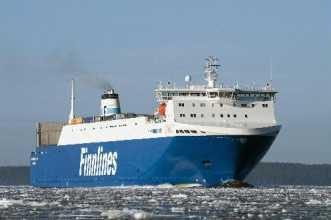Cargoship: (27, 61, 283, 186)
